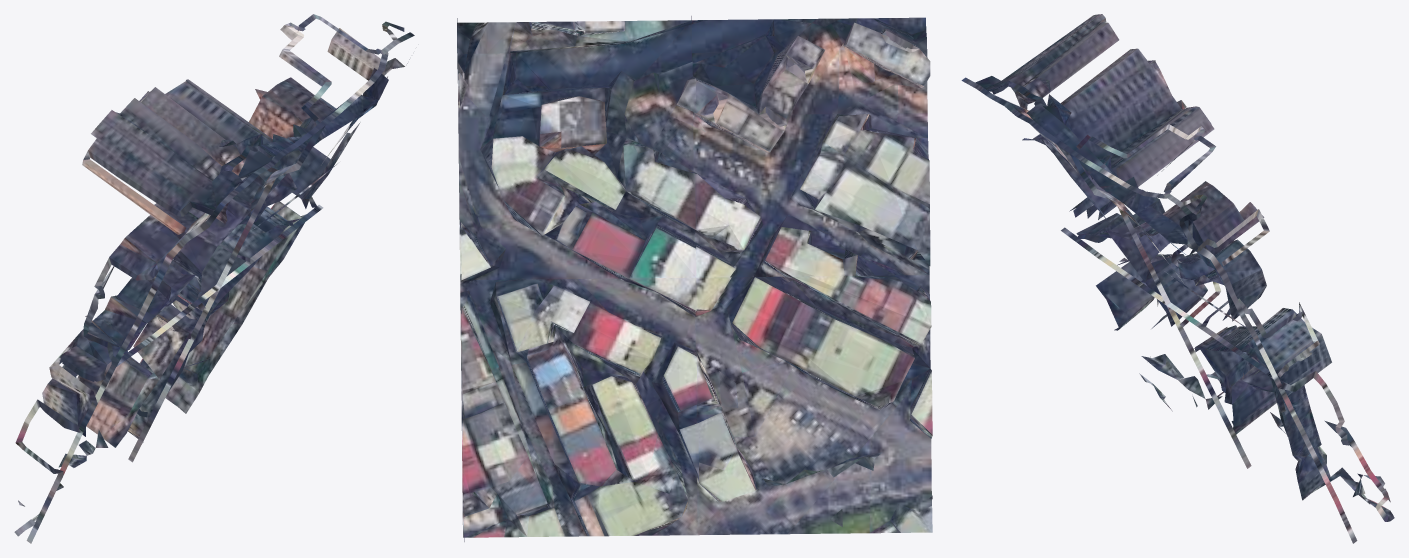
The picture shows the model from 3 angles, left to right: view 1: azimuth 30°, elevation 25°; view 2: azimuth 150°, elevation 25°; view 3: azimuth 270°, elevation 25°; orthographic projection. The views are drawn at different scales.
Size of the model in its own units: 157 by 155 by 147.
1 material, 1 textured.
